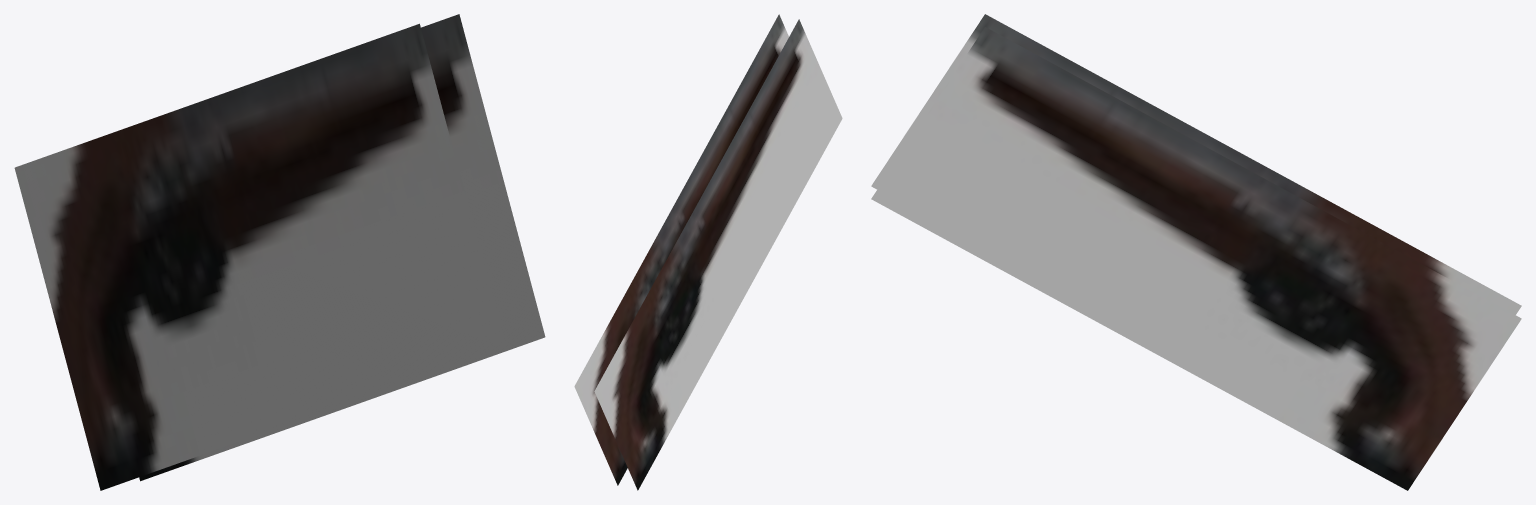
File: sign1_spanish_b_icon_weapons.fbx
3 views of the same model, side by side, from view 1: azimuth 30°, elevation 25°; view 2: azimuth 150°, elevation 25°; view 3: azimuth 270°, elevation 25° (orthographic). The views are drawn at different scales.
Visible parts, largest first — view 1: icons; view 2: icons; view 3: icons.
Part boxes in pixels (<box>): icons: <box>14,14,545,490</box>; icons: <box>574,14,842,490</box>; icons: <box>871,14,1521,490</box>.
Bounding box in the file's own units: 16.67 × 282 × 358.
1 material, 1 textured.
